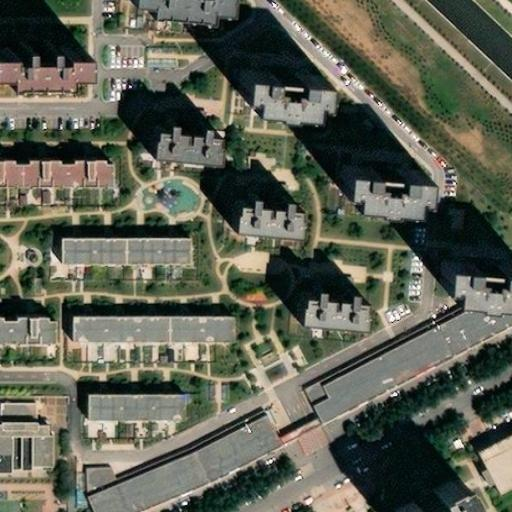building: (303, 296, 512, 445), (102, 433, 285, 512), (75, 320, 232, 346), (343, 169, 429, 215), (241, 74, 327, 119), (63, 240, 190, 269), (443, 258, 512, 304), (0, 49, 87, 85), (0, 162, 119, 188), (291, 287, 364, 327), (144, 120, 217, 160), (224, 196, 297, 236), (87, 398, 184, 426), (477, 441, 512, 507), (134, 0, 230, 18), (0, 321, 53, 348), (91, 482, 117, 512), (1, 409, 37, 429)
